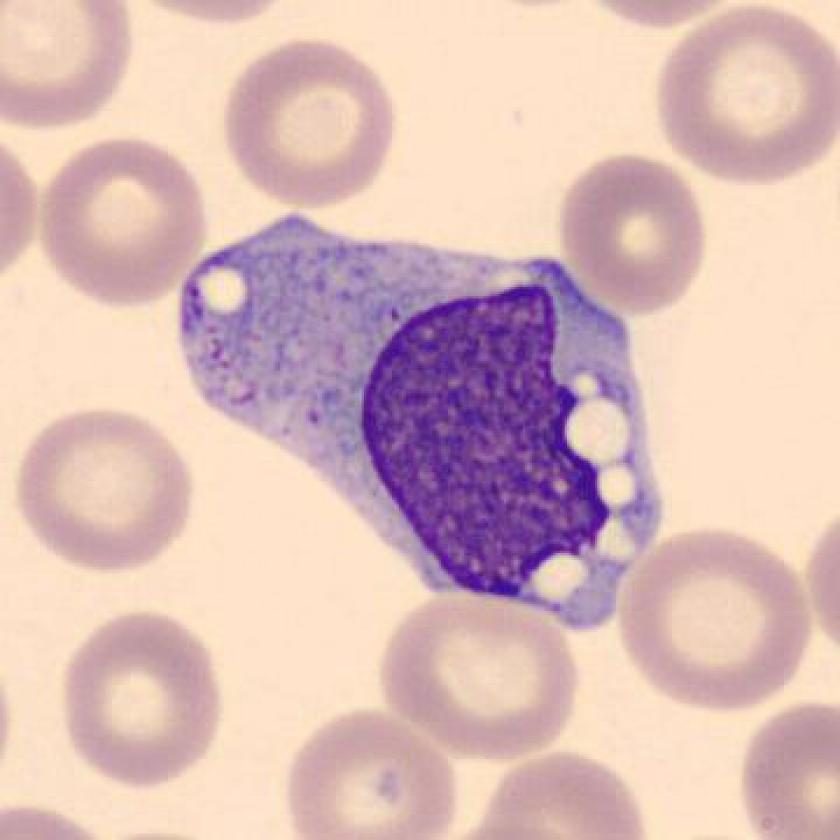monocyte: (162, 203, 682, 652)
